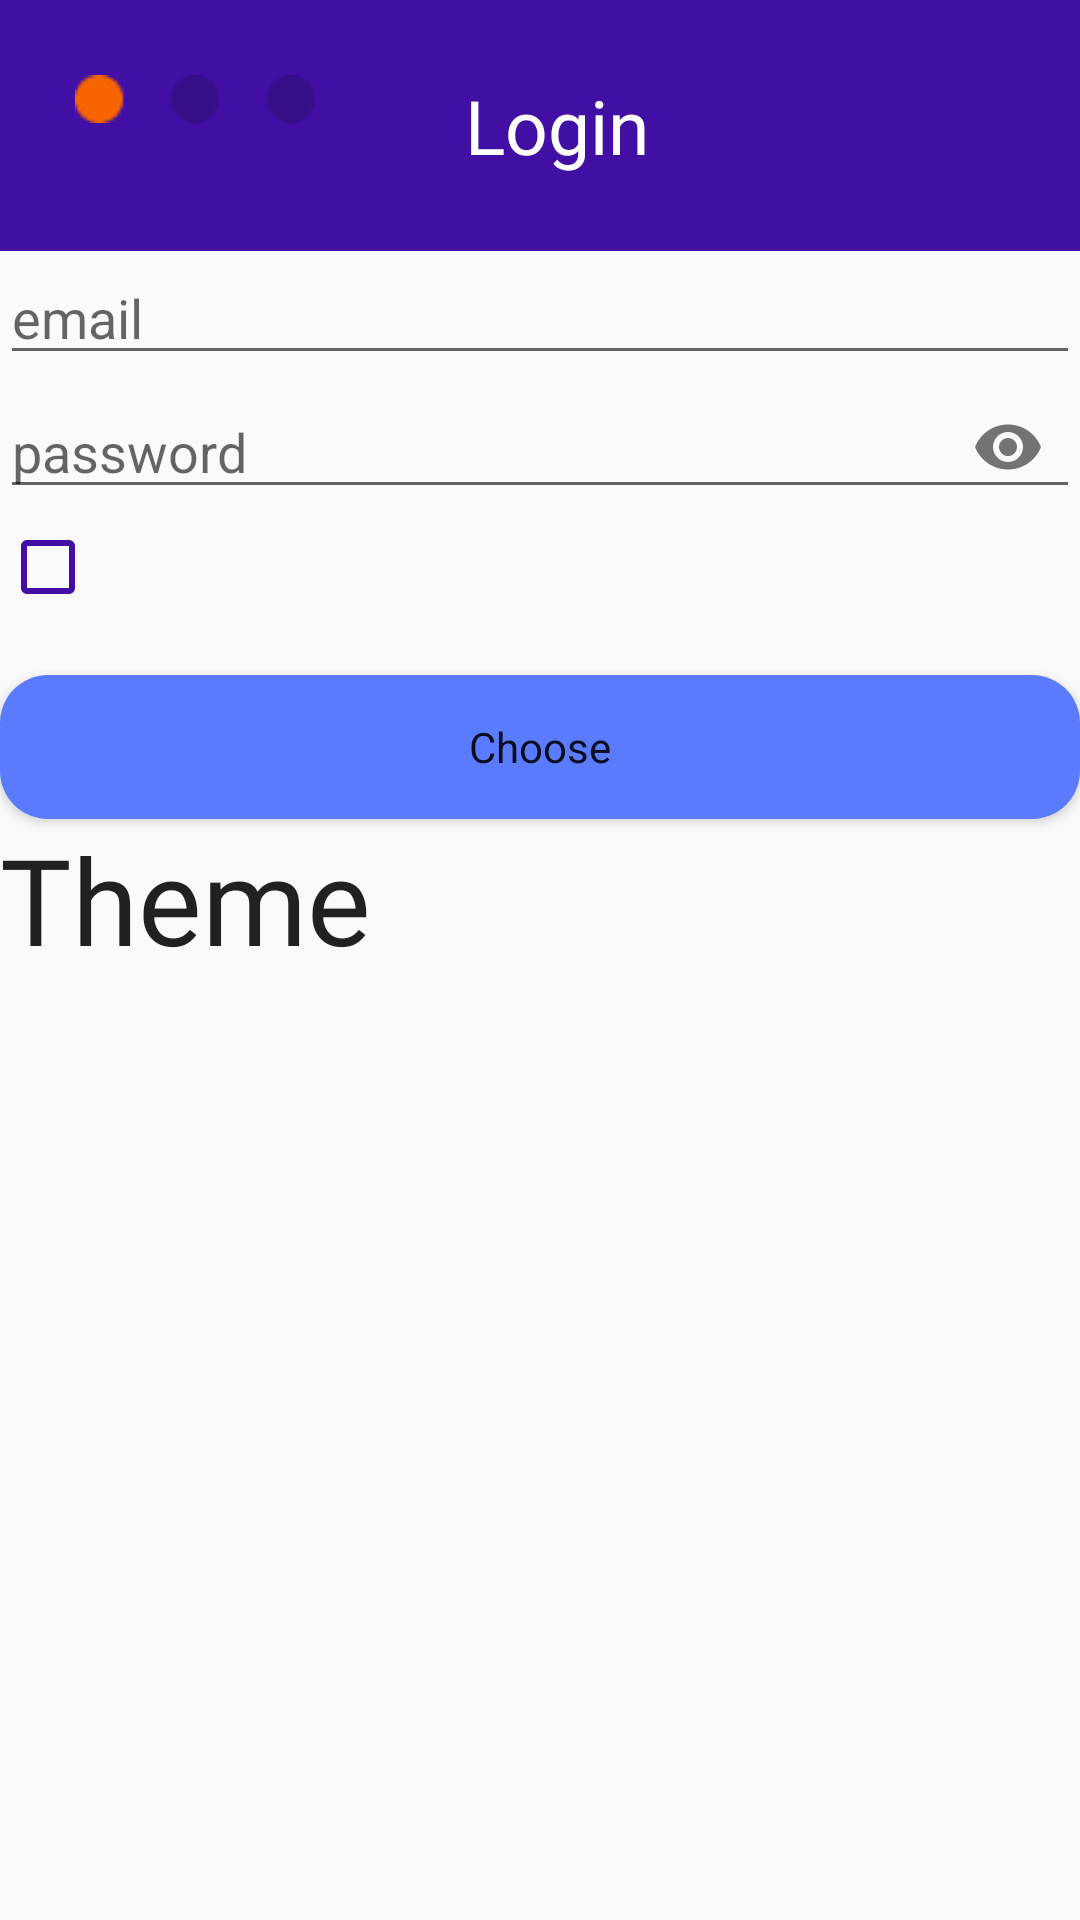

Icon click points for this 1080 x 1920 phone screenshot, format (x,y):
onboarding dots: (195,99)
